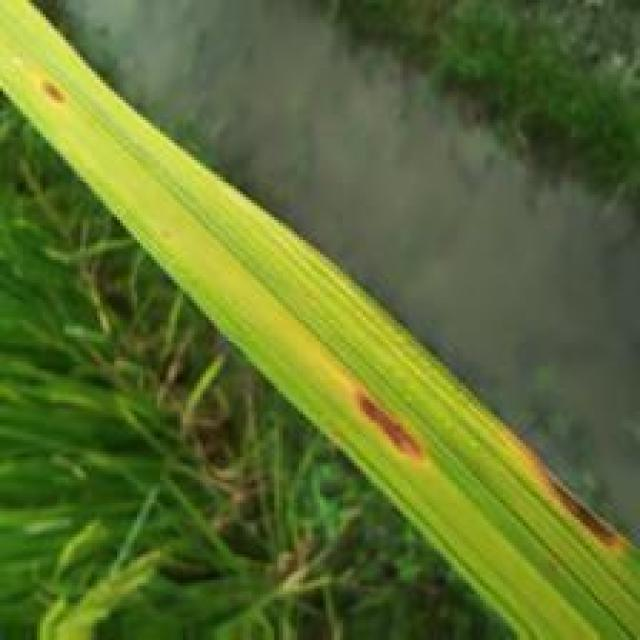Narrow_Brown_Leaf_Spot: (477, 396, 640, 565), (332, 365, 434, 469)
